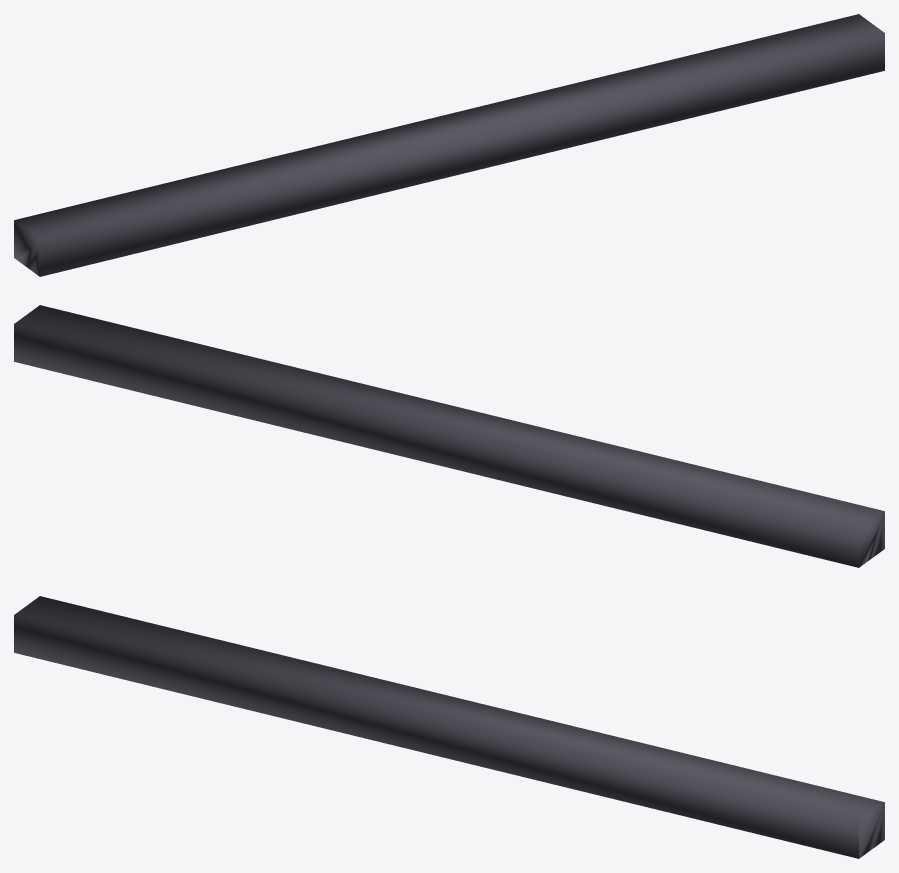
The model's file is laserMazeWallVerticalTop.glb.
The picture shows the model from 3 angles, top to bottom: view 1: azimuth 30°, elevation 25°; view 2: azimuth 150°, elevation 25°; view 3: azimuth 330°, elevation 25°; orthographic projection.
Visible parts, largest first — view 1: laserMazeWallVericalTop; view 2: laserMazeWallVericalTop; view 3: laserMazeWallVericalTop.
Boxes of the visible parts, bbox=[...] form: laserMazeWallVericalTop: bbox=[14, 14, 884, 276]; laserMazeWallVericalTop: bbox=[14, 305, 884, 567]; laserMazeWallVericalTop: bbox=[14, 596, 884, 858].
Bounding box in the file's own units: 4.69 × 0.2 × 0.25.
2 materials, 2 textured.
